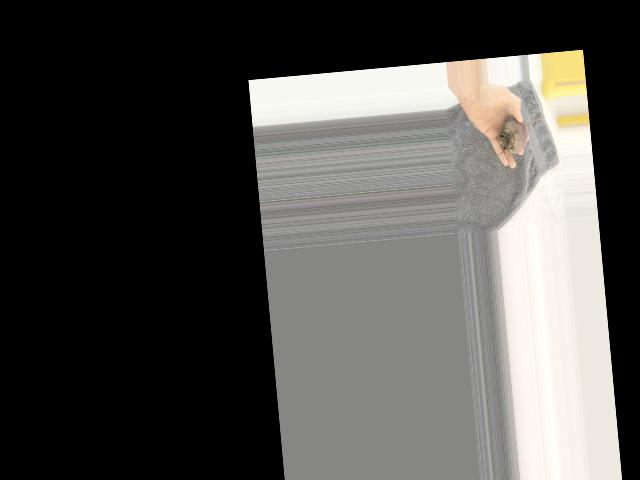beet: (495, 112, 548, 154)
